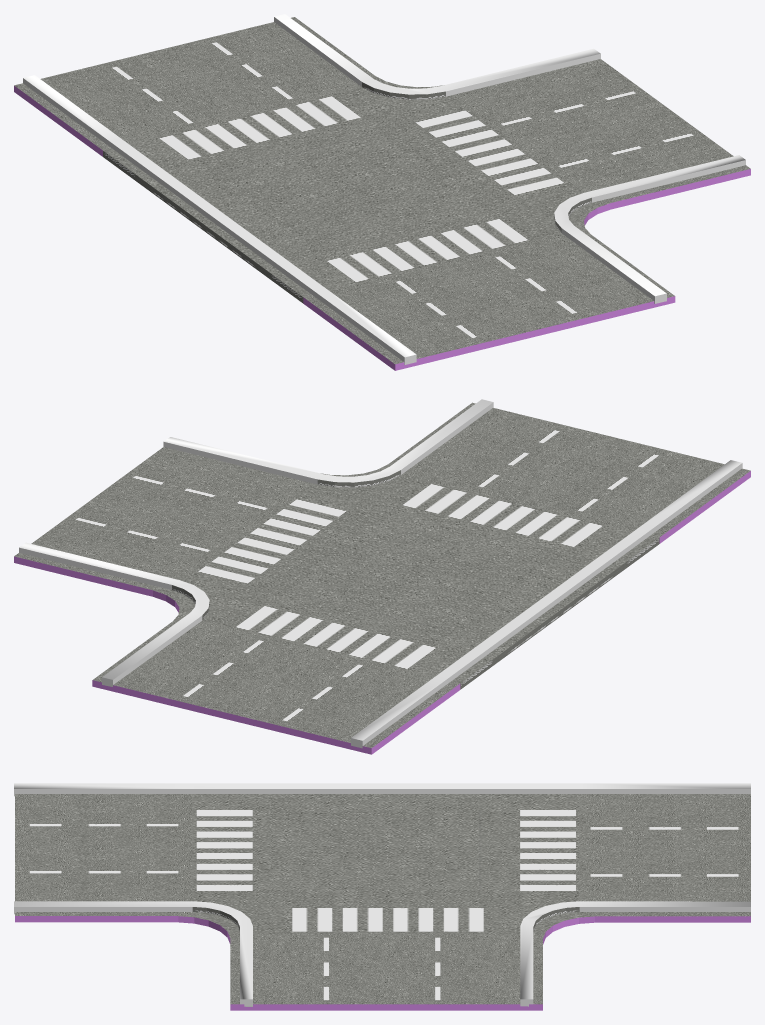
File: 3Road_3.FBX
3 views of the same model, one above another, from view 1: azimuth 30°, elevation 25°; view 2: azimuth 150°, elevation 25°; view 3: azimuth 270°, elevation 25° (orthographic). The views are drawn at different scales.
Visible parts, largest first — view 1: 3Road; view 2: 3Road; view 3: 3Road.
Boxes of the visible parts, <box> form: 3Road: <box>14,14,750,370</box>; 3Road: <box>14,399,750,754</box>; 3Road: <box>14,783,750,1010</box>.
Bounding box in the file's own units: 1498 × 36.06 × 2120.
